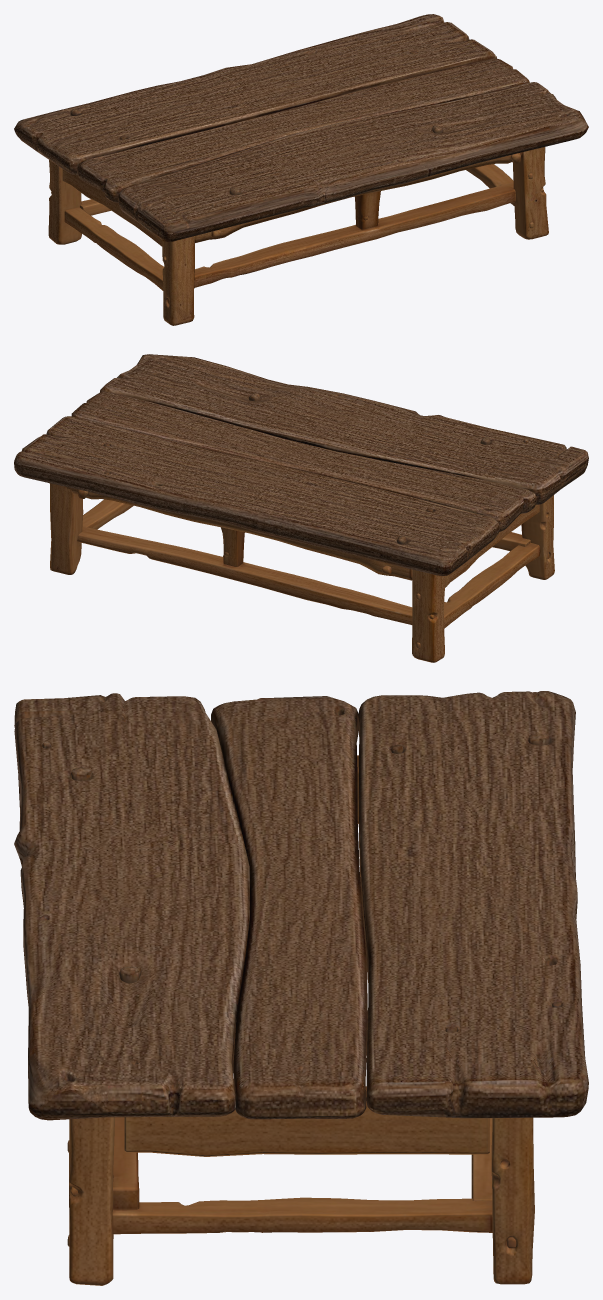
The model's file is tripo_convert_6866d81e-4179-48dd-8f9b-5237d2c3c01a.fbx.
3 renders of one model, top to bottom at view 1: azimuth 30°, elevation 25°; view 2: azimuth 150°, elevation 25°; view 3: azimuth 270°, elevation 25°, orthographic. The views are drawn at different scales.
Parts seen in each view (by area): view 1: tripo_node_6866d81e; view 2: tripo_node_6866d81e; view 3: tripo_node_6866d81e.
Part boxes in pixels (x1,y1,x2,y2): tripo_node_6866d81e: [14, 14, 588, 325]; tripo_node_6866d81e: [14, 354, 588, 662]; tripo_node_6866d81e: [14, 691, 588, 1285].
Size of the model in its own units: 0.9995 by 0.2671 by 0.603.
Materials: 1 (1 with a texture image).
